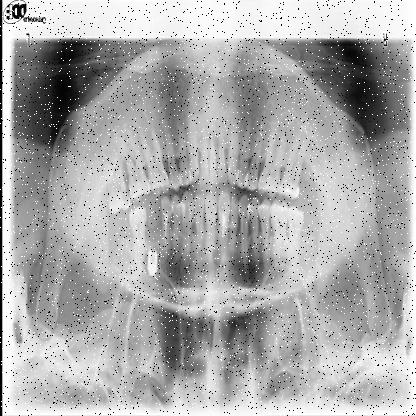Bicon: (142, 248, 158, 284)
